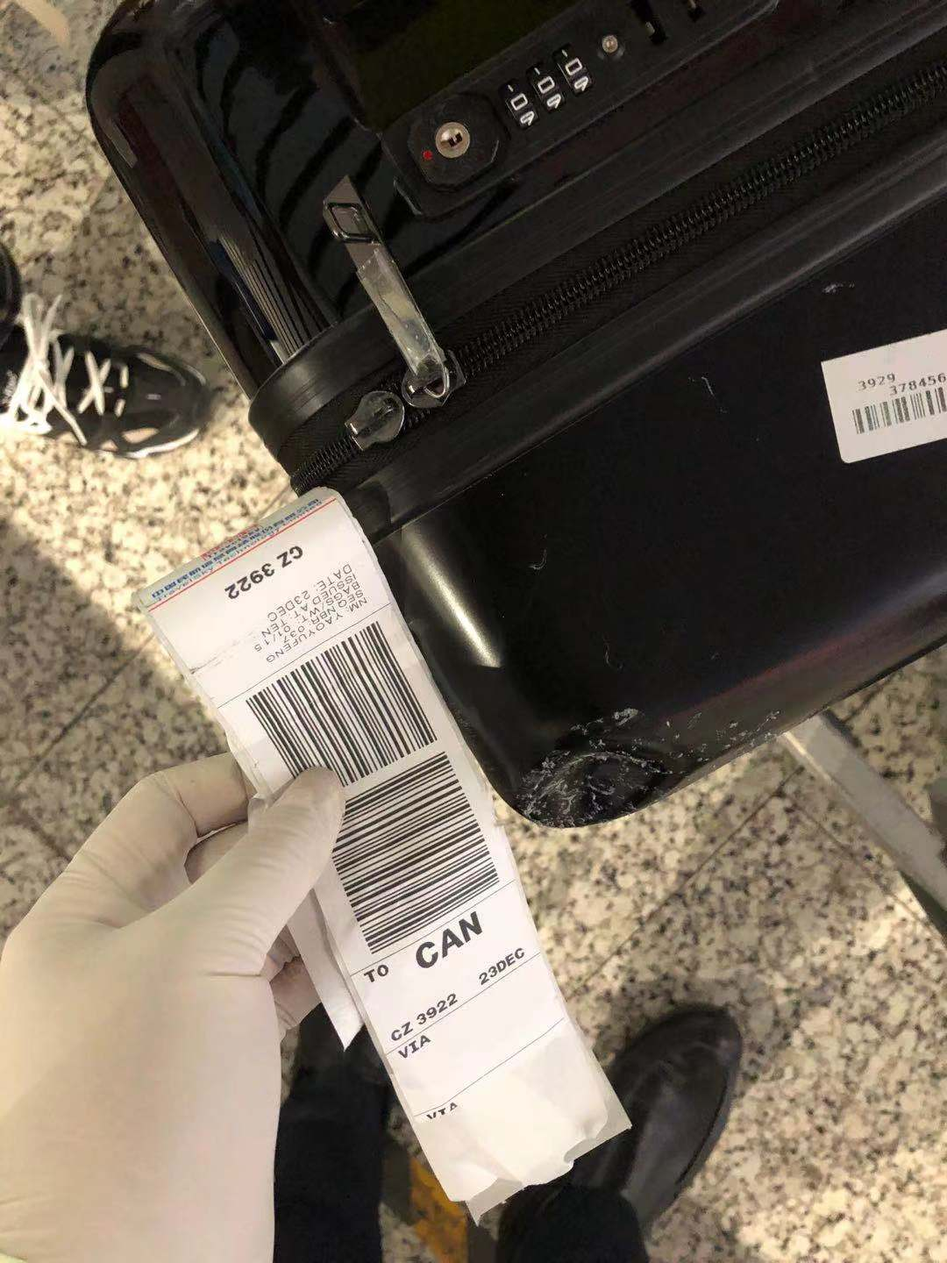rupture: (514, 736, 683, 828)
